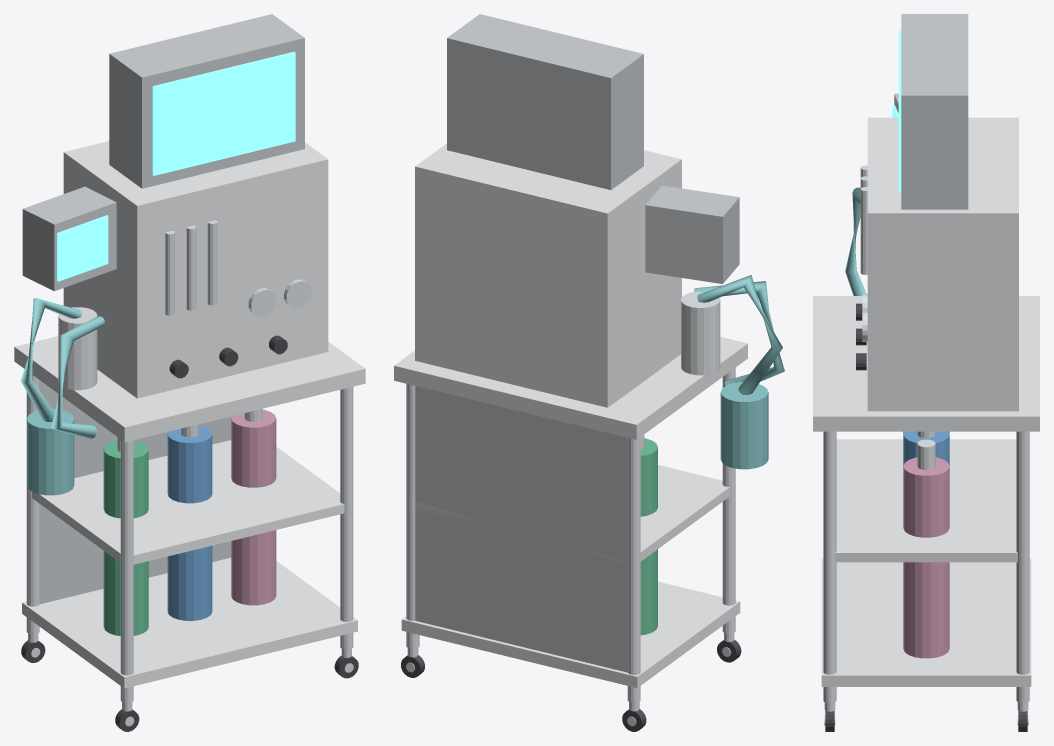
Rendered from operatingRoom_monitor_v1.fbx.
The picture shows the model from 3 angles, left to right: view 1: azimuth 30°, elevation 25°; view 2: azimuth 150°, elevation 25°; view 3: azimuth 270°, elevation 25°; orthographic projection. The views are drawn at different scales.
Parts seen in each view (by area): view 1: 05_AnesthesiaMach_Intact_Mesh; view 2: 05_AnesthesiaMach_Intact_Mesh; view 3: 05_AnesthesiaMach_Intact_Mesh.
Boxes of the visible parts, x1=… form: 05_AnesthesiaMach_Intact_Mesh: x1=14, y1=14, x2=365, y2=731; 05_AnesthesiaMach_Intact_Mesh: x1=394, y1=14, x2=784, y2=731; 05_AnesthesiaMach_Intact_Mesh: x1=813, y1=14, x2=1039, y2=731.
Bounding box in the file's own units: 87.38 × 166 × 54.
